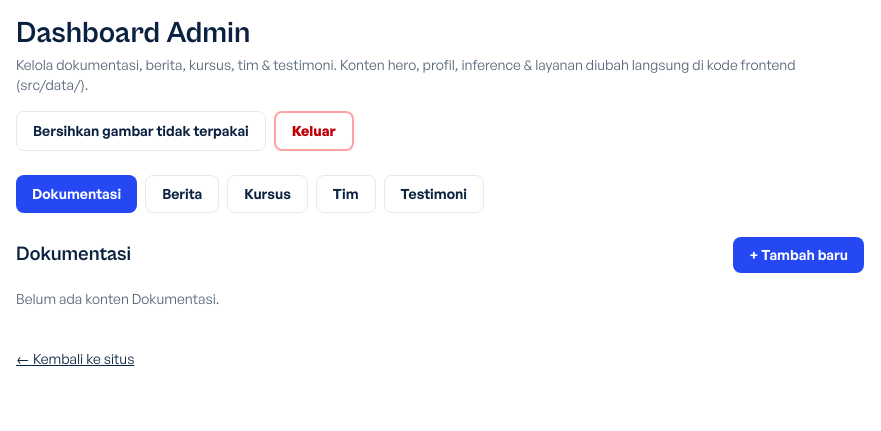
Test case: Admin — dashboard › tab Berita → ganti jenis, daftar berita dimuat & tampil
This screenshot has width=881, height=431.
Expected: the heading "Dashboard Admin" is shown, [16, 16, 250, 50]
Click the tab "Berita": (182, 194) [145, 175, 219, 213]
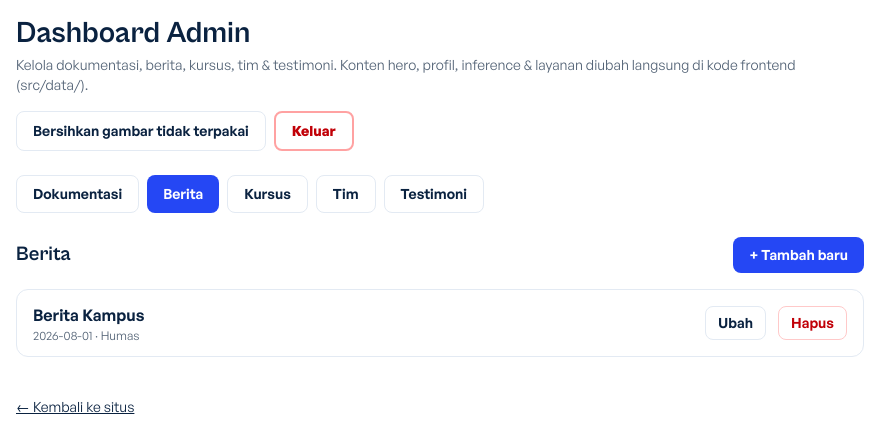
Expected: the text "Berita Kampus" is shown, [33, 305, 144, 325]
